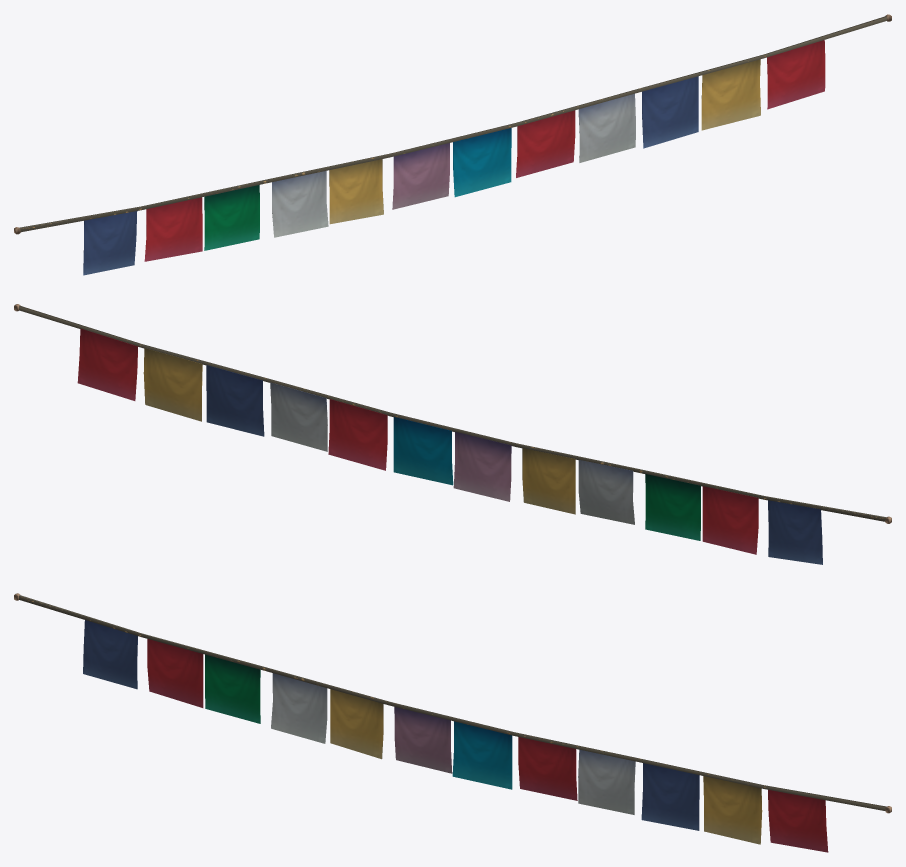
The model's file is shop_cablei02a.fbx.
3 views of the same model, one above another, from view 1: azimuth 30°, elevation 25°; view 2: azimuth 150°, elevation 25°; view 3: azimuth 330°, elevation 25° (orthographic).
Visible parts, largest first — view 1: shopcable02a; view 2: shopcable02a; view 3: shopcable02a.
Part boxes in pixels (x1,y1,x2,y2): shopcable02a: (14, 14, 891, 275); shopcable02a: (14, 304, 891, 564); shopcable02a: (14, 593, 891, 852).
Bounding box in the file's own units: 344 × 28.28 × 2.71.
